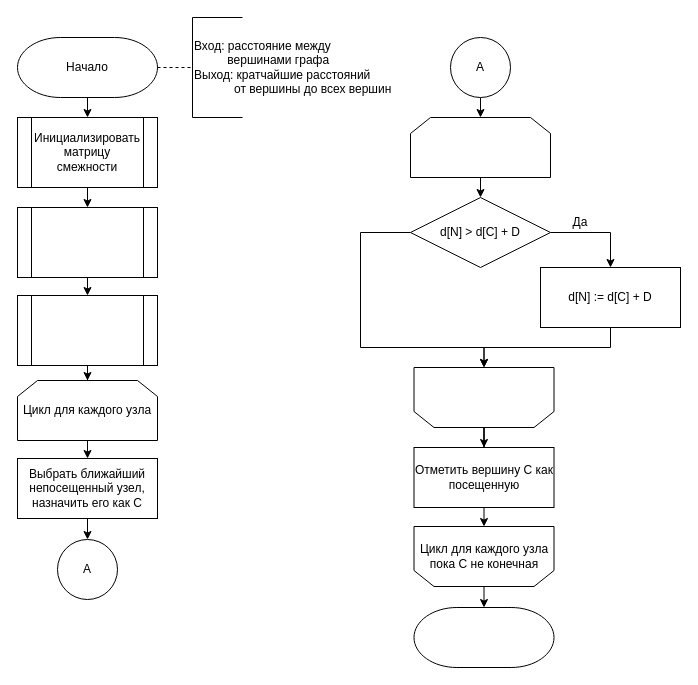
The diagram is 698 pixels wide and 685 high, and some of its shapes have lost their labels. The shapes that lost their labels are listed below. From the top down, each one's centre as x and y in pixels, then its label:
At point 480,147: "Цикл для каждого соседнего узла N с длиной связи D".
At point 87,242: "Инициализировать массив v посещенных вершин".
At point 87,330: "Инициализировать массив d кратчайших расстояний".
At point 483,397: "Цикл для каждого соседнего узла".
At point 483,637: "Конец".
